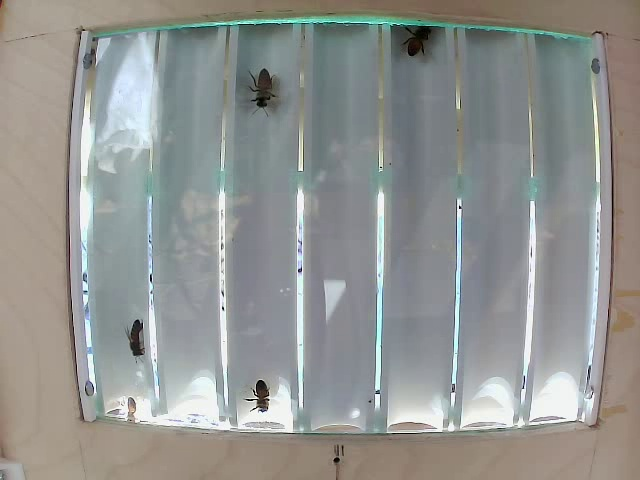bee: (110, 314, 162, 366), (226, 368, 281, 417), (253, 57, 293, 116), (408, 18, 440, 67)
